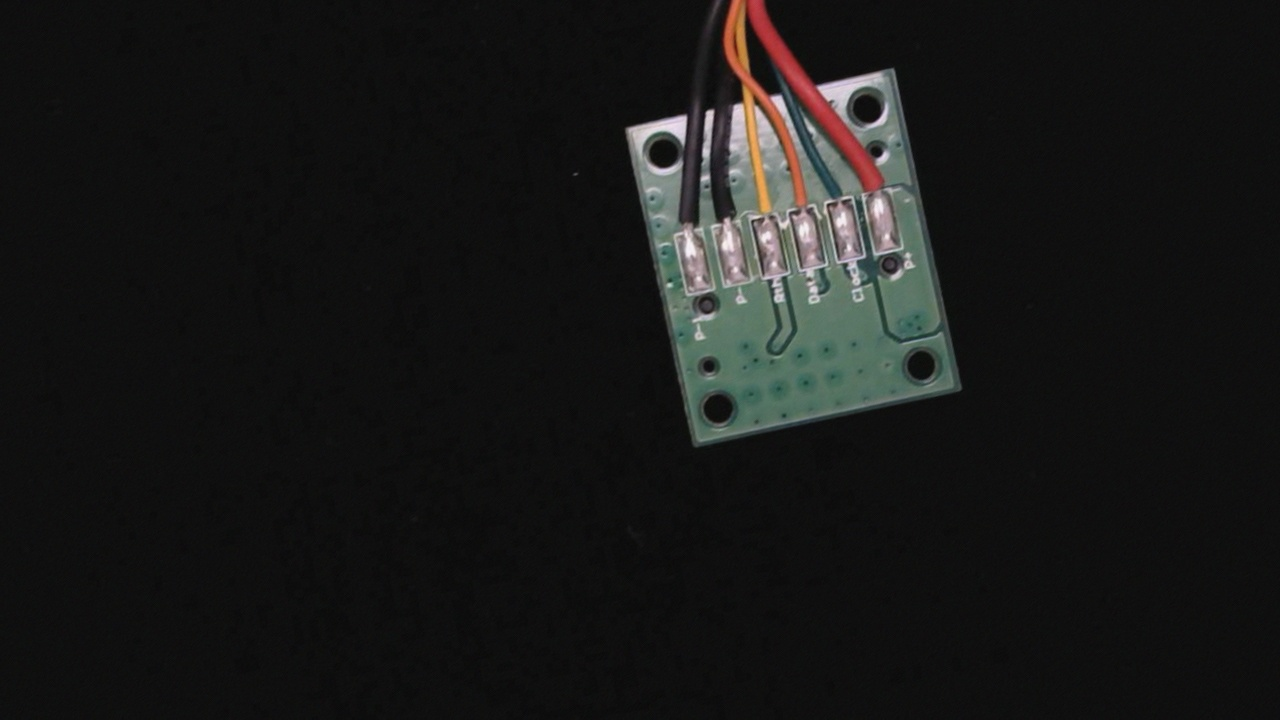Black: (701, 179, 744, 244)
Black1: (661, 183, 706, 255)
Green: (817, 156, 854, 218)
Orange: (778, 161, 819, 228)
Red: (849, 138, 895, 213)
Yellow: (735, 158, 783, 237)
